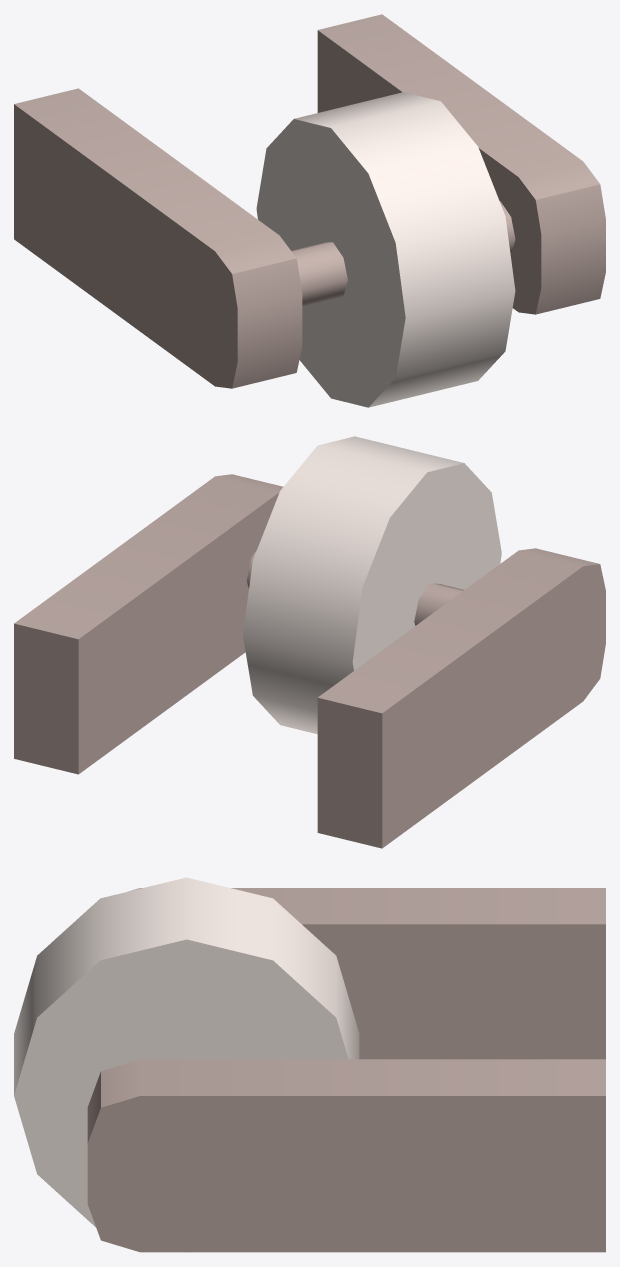
File: Tape_Stand.fbx
3 views of the same model, one above another, from view 1: azimuth 30°, elevation 25°; view 2: azimuth 150°, elevation 25°; view 3: azimuth 270°, elevation 25° (orthographic). The views are drawn at different scales.
Parts seen in each view (by area): view 1: Tape_Stand; view 2: Tape_Stand; view 3: Tape_Stand.
Part boxes in pixels (bbox=[...]): Tape_Stand: bbox=[14, 14, 605, 407]; Tape_Stand: bbox=[14, 436, 605, 848]; Tape_Stand: bbox=[14, 877, 605, 1252].
Bounding box in the file's own units: 28.5 × 20 × 34.27.
